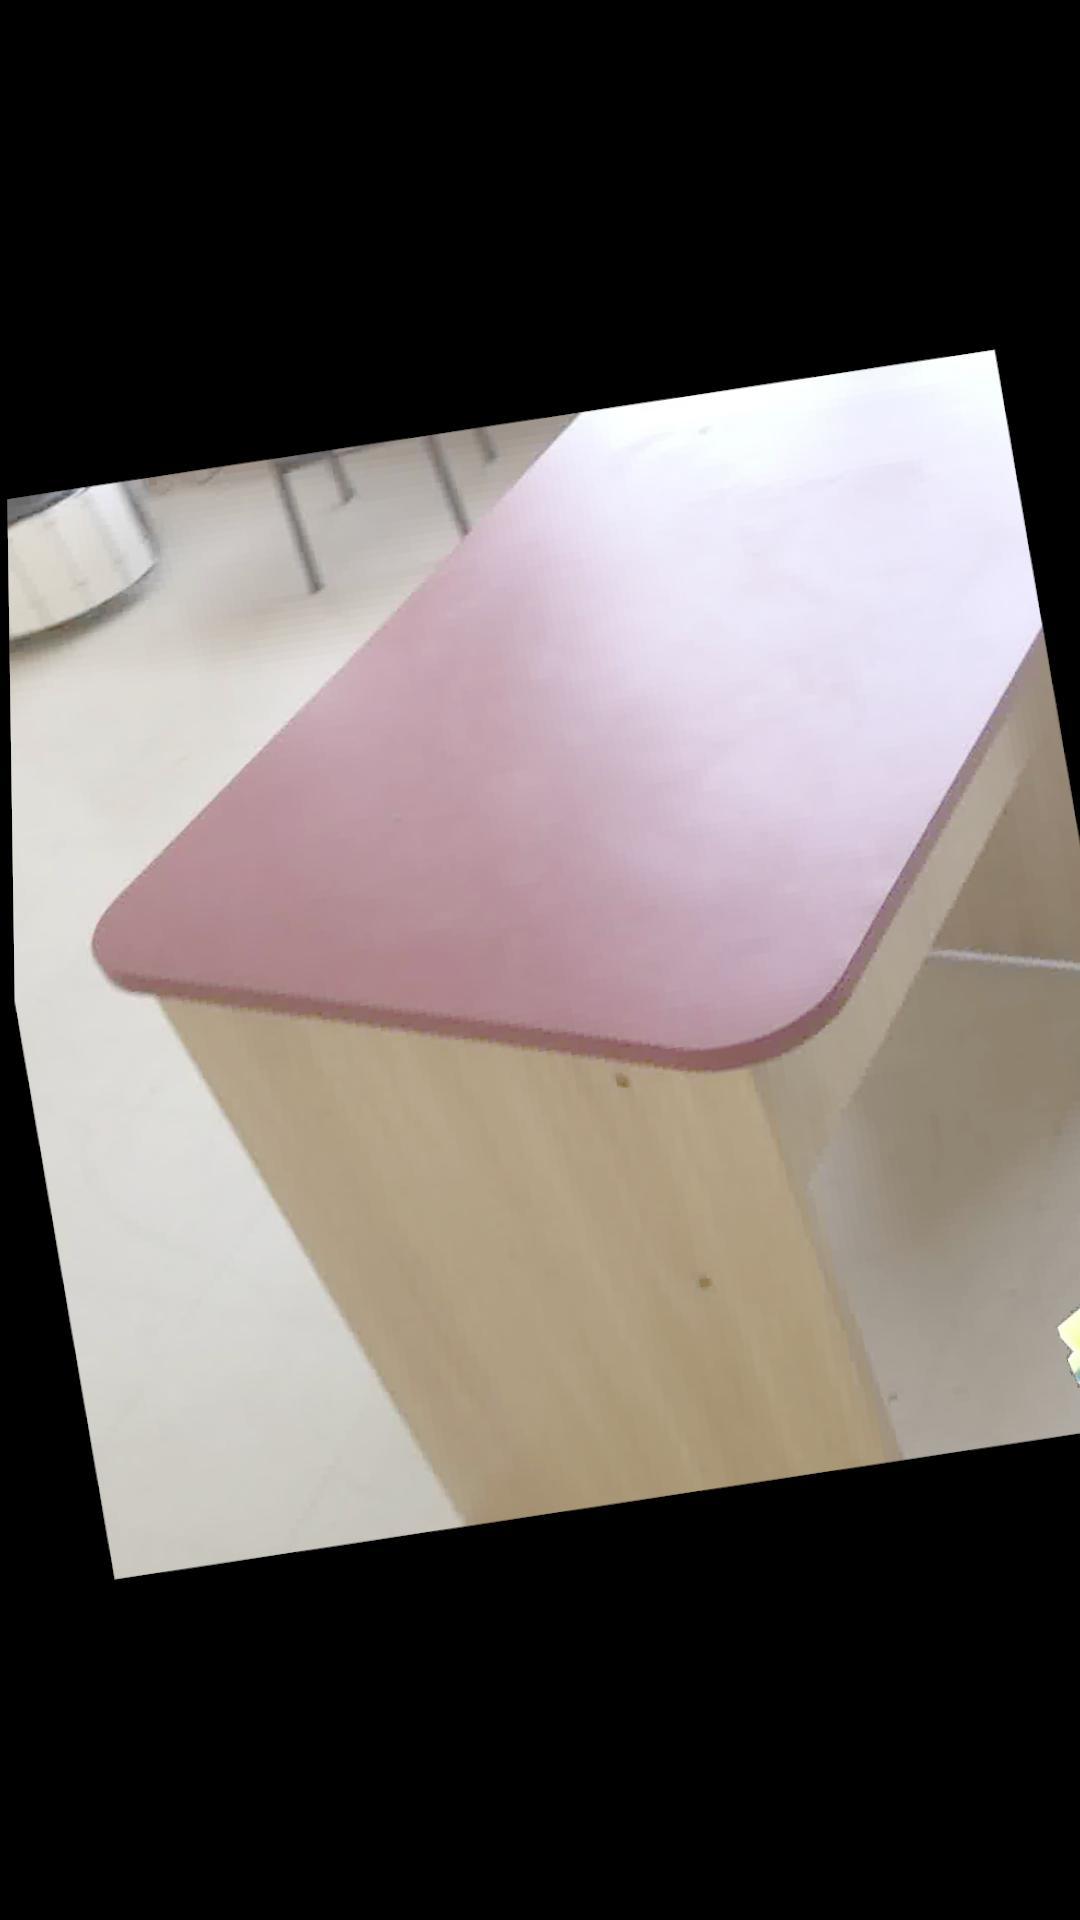sponge: (1052, 1302, 1080, 1386)
